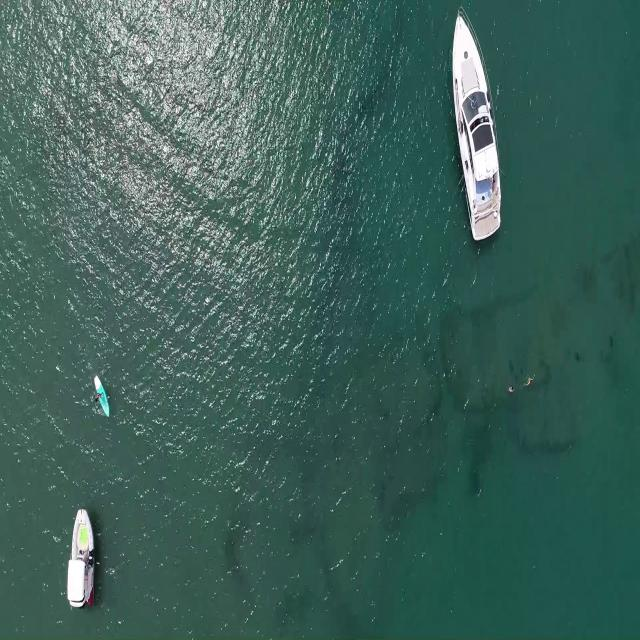boat: (449, 9, 504, 243), (66, 503, 98, 615)
person: (523, 375, 537, 389), (92, 389, 103, 404), (507, 385, 515, 395)
surfboard: (94, 372, 110, 423)
